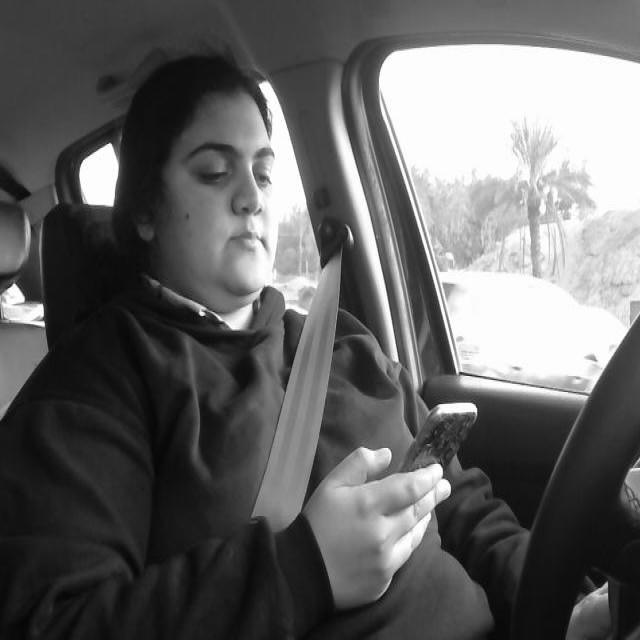mobile use: (383, 396, 489, 468)
